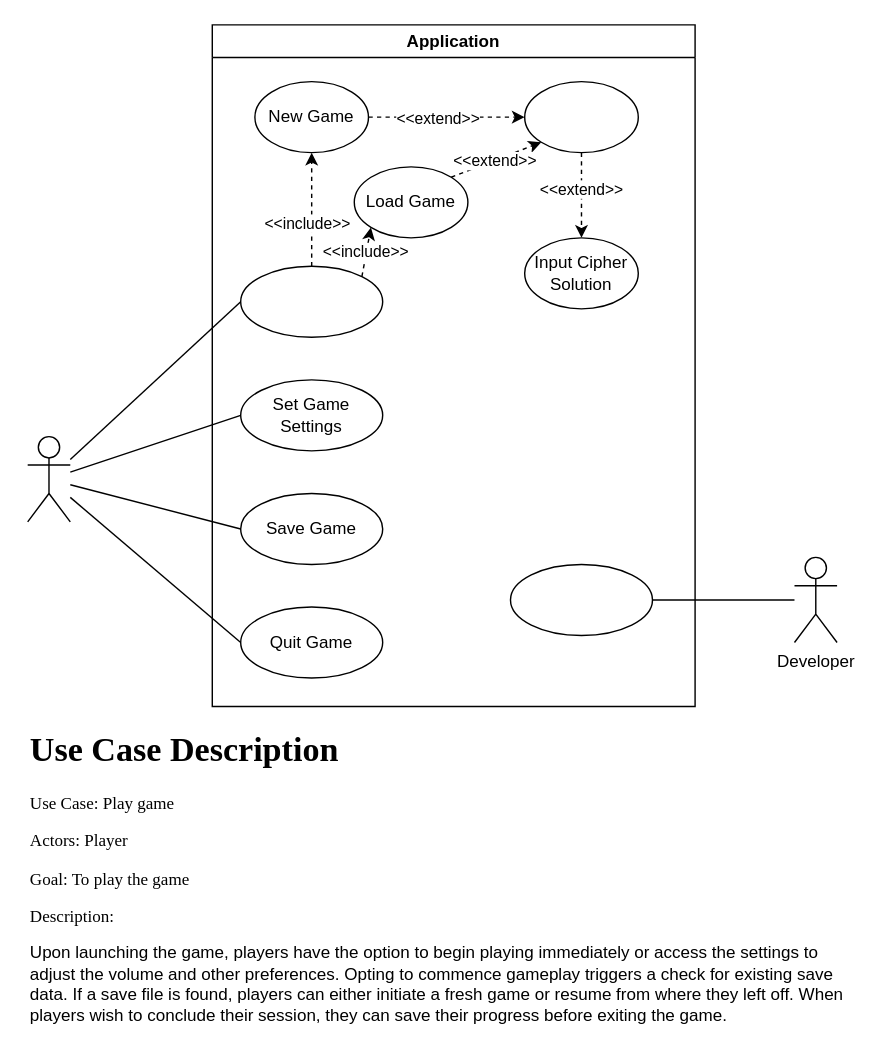
Some shapes in this 879 by 1062 pixel diagram are drawn without their labels. The centre of each missing label's shape, as x and y in pixels:
"Choose Cipher" belongs at pixel 580 116.
"Player" belongs at pixel 48 478.
"Start Game" belongs at pixel 311 301.
"Update Content" belongs at pixel 580 599.
